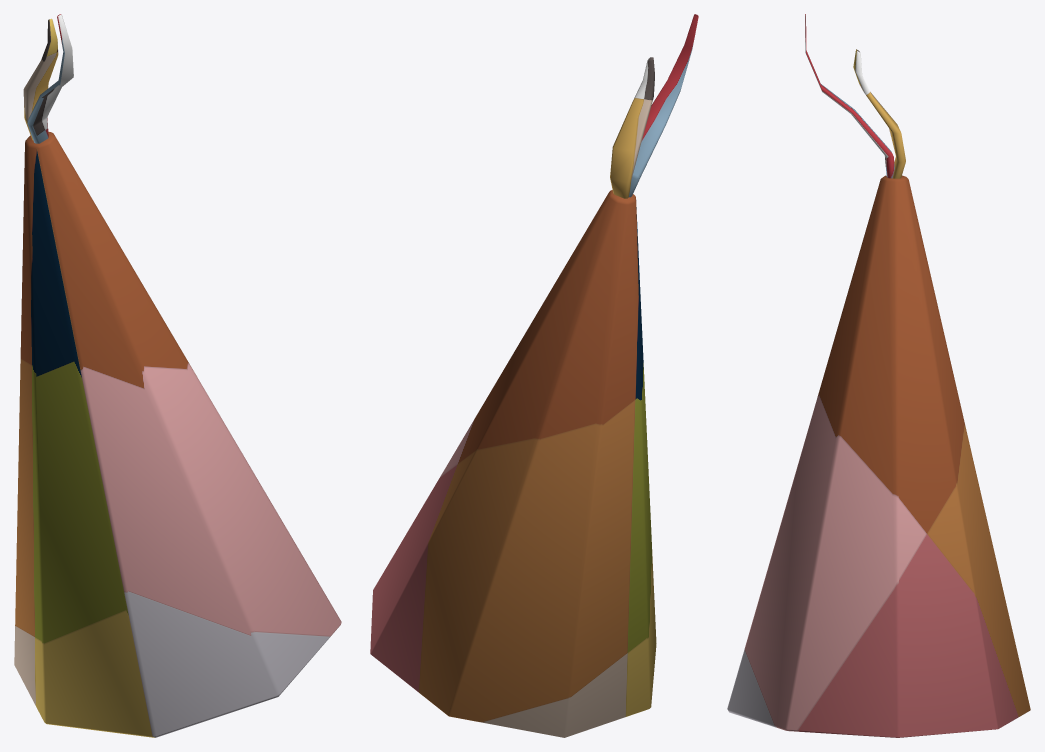
Rendered from Hat_Party.fbx.
3 views of the same model, side by side, from view 1: azimuth 30°, elevation 25°; view 2: azimuth 150°, elevation 25°; view 3: azimuth 270°, elevation 25° (orthographic). The views are drawn at different scales.
Parts seen in each view (by area): view 1: Hat_Party; view 2: Hat_Party; view 3: Hat_Party.
Boxes of the visible parts, <box> form: Hat_Party: <box>14,14,341,737</box>; Hat_Party: <box>370,14,698,737</box>; Hat_Party: <box>727,14,1030,737</box>.
Bounding box in the file's own units: 19.98 × 46.58 × 19.4.
